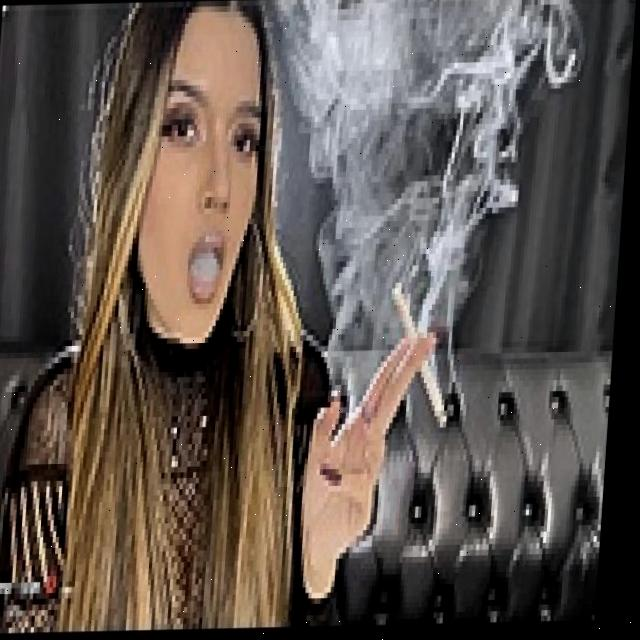cigarette: (389, 285, 463, 434)
